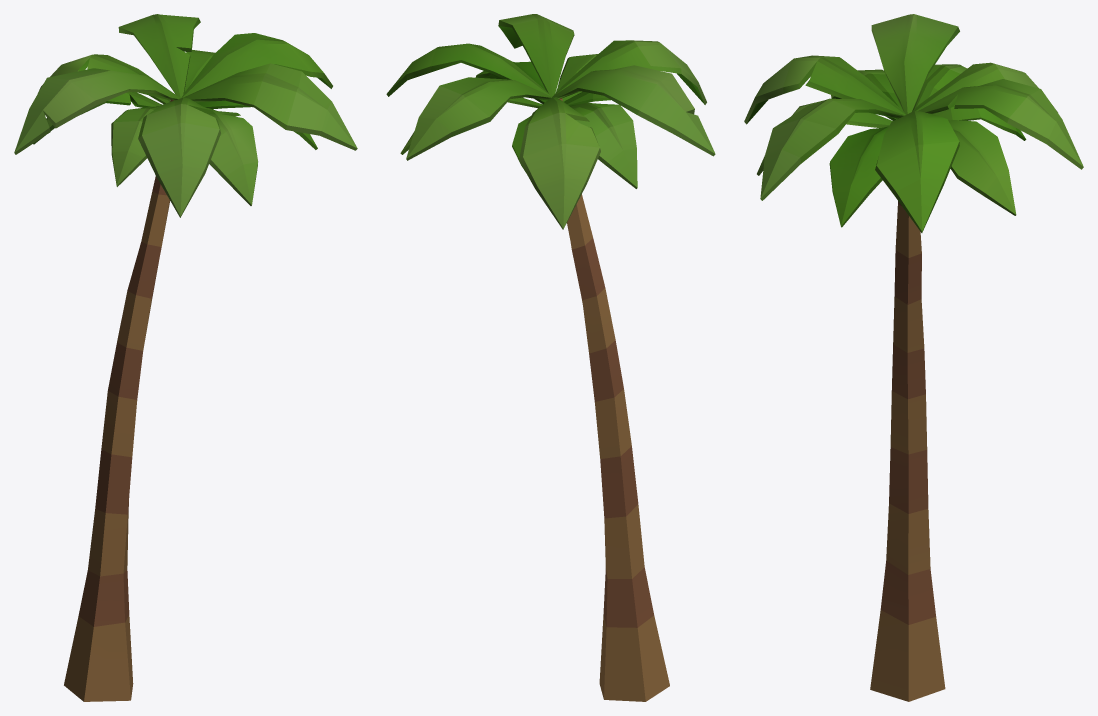
File: Anim_PalmTree_Colour.fbx
The picture shows the model from 3 angles, left to right: view 1: azimuth 30°, elevation 25°; view 2: azimuth 150°, elevation 25°; view 3: azimuth 270°, elevation 25°; orthographic projection. The views are drawn at different scales.
Visible parts, largest first — view 1: Anim_PalmTree_Colour; view 2: Anim_PalmTree_Colour; view 3: Anim_PalmTree_Colour.
Boxes of the visible parts, left/top/right/bottom form: Anim_PalmTree_Colour: left=14, top=14, right=357, bottom=701; Anim_PalmTree_Colour: left=386, top=14, right=715, bottom=701; Anim_PalmTree_Colour: left=744, top=14, right=1083, bottom=701.
Size of the model in its own units: 3.44 by 6.28 by 2.94.
